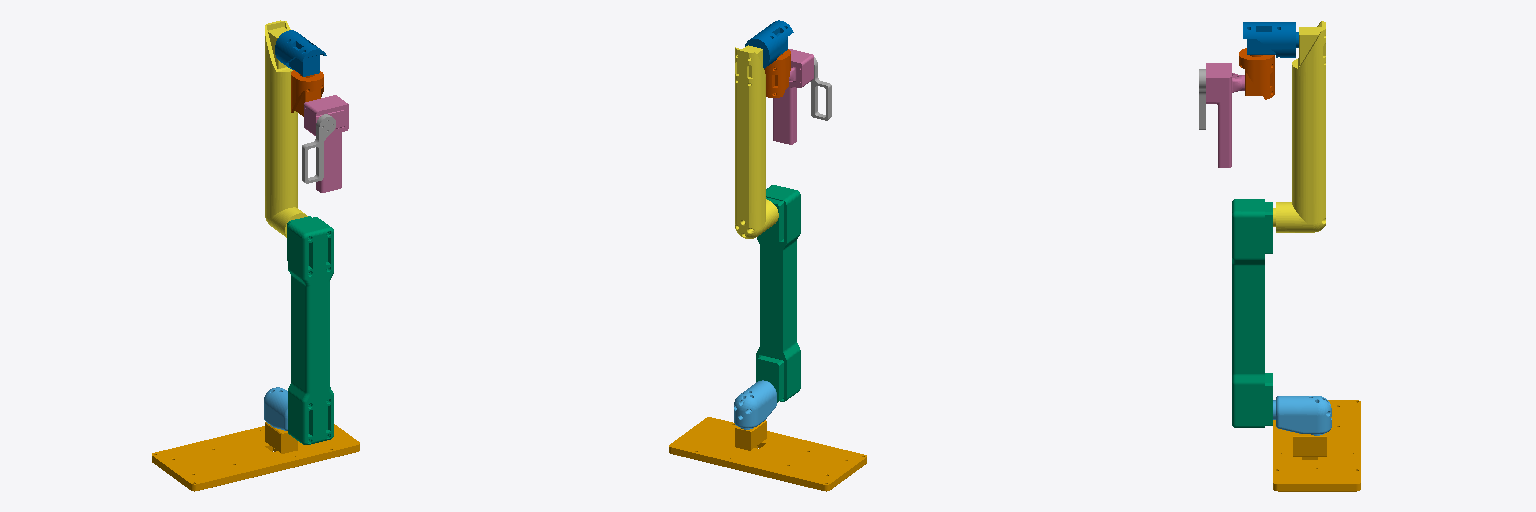
The robot description file, URDF, robot "GELLO_Assembly_URDF_V3":
<?xml version='1.0' encoding='utf-8'?>
<robot name="GELLO_Assembly_URDF_V3">
    <link name="base_link">
        <inertial>
            <origin xyz="1.2185206118581e-10 -0.01143238871495543 0.020561871815101752" rpy="0.0 0.0 0.0" />
            <mass value="1.5428560048927807e-06" />
            <inertia ixx="2.142752736107589e-10" iyy="1.180719234889573e-10" izz="1.9735669694538282e-10" ixy="-2.713718133592243e-25" iyz="6.565466731887767e-18" ixz="1.394243159687223e-19" />
        </inertial>
        <visual name="base_link_visual">
            <origin xyz="0.0 0.0 0.0" rpy="0.0 0.0 0.0" />
            <geometry>
                <mesh filename="meshes/base_link.stl" scale="0.001 0.001 0.001" />
            </geometry>
        </visual>
        <collision name="base_link_collision">
            <origin xyz="0.0 0.0 0.0" rpy="0.0 0.0 0.0" />
            <geometry>
                <mesh filename="meshes/base_link.stl" scale="0.001 0.001 0.001" />
            </geometry>
        </collision>
    </link>
    <link name="link_1">
        <inertial>
            <origin xyz="-3.486140317856206e-09 -0.014537708569331006 0.019919485015283848" rpy="0.0 -0.0 0.0" />
            <mass value="0.06274997662262678" />
            <inertia ixx="1.939615471727285e-05" iyy="9.515286083480127e-06" izz="1.7855195279809587e-05" ixy="1.987735196400077e-12" iyz="1.28932090236926e-06" ixz="1.2821877328375199e-12" />
        </inertial>
        <visual name="link_1_visual">
            <origin xyz="3.293144909717328e-11 2.2337207000733273e-09 -0.04849999790885827" rpy="0.0 -0.0 0.0" />
            <geometry>
                <mesh filename="meshes/link_1.stl" scale="0.001 0.001 0.001" />
            </geometry>
        </visual>
        <collision name="link_1_collision">
            <origin xyz="3.293144909717328e-11 2.2337207000733273e-09 -0.04849999790885827" rpy="0.0 -0.0 0.0" />
            <geometry>
                <mesh filename="meshes/link_1.stl" scale="0.001 0.001 0.001" />
            </geometry>
        </collision>
    </link>
    <link name="link_2">
        <inertial>
            <origin xyz="-1.7018640656112306e-05 0.10655568742222554 0.025152996946955792" rpy="0.0 -0.0 0.0" />
            <mass value="0.2736991790426287" />
            <inertia ixx="0.0009703808874144803" iyy="5.339350679634306e-05" izz="0.0009715106266584986" ixy="2.1979631599214904e-09" iyz="1.5438339270174017e-09" ixz="9.466039000876278e-11" />
        </inertial>
        <visual name="link_2_visual">
            <origin xyz="3.2931459346208954e-11 -0.12241937970128806 -0.11441938433215892" rpy="-1.5707963267948966 -0.0 0.0" />
            <geometry>
                <mesh filename="meshes/link_2.stl" scale="0.001 0.001 0.001" />
            </geometry>
        </visual>
        <collision name="link_2_collision">
            <origin xyz="3.2931459346208954e-11 -0.12241937970128806 -0.11441938433215892" rpy="-1.5707963267948966 -0.0 0.0" />
            <geometry>
                <mesh filename="meshes/link_2.stl" scale="0.001 0.001 0.001" />
            </geometry>
        </collision>
    </link>
    <link name="link_3">
        <inertial>
            <origin xyz="-6.558097818704784e-10 -0.07873313300611941 0.03514906114091329" rpy="0.0 -0.0 0.0" />
            <mass value="0.27478433171099215" />
            <inertia ixx="0.0009354187178187215" iyy="4.95203013102136e-05" izz="0.0009224332726669865" ixy="3.2363681225165675e-12" iyz="4.658729936879175e-05" ixz="4.6997325905895035e-12" />
        </inertial>
        <visual name="link_3_visual">
            <origin xyz="1.984530114147037e-09 0.22846475429259422 0.001464756380230563" rpy="1.5707963267948966 -2.7752198102815865e-41 0.0" />
            <geometry>
                <mesh filename="meshes/link_3.stl" scale="0.001 0.001 0.001" />
            </geometry>
        </visual>
        <collision name="link_3_collision">
            <origin xyz="1.984530114147037e-09 0.22846475429259422 0.001464756380230563" rpy="1.5707963267948966 -2.7752198102815865e-41 0.0" />
            <geometry>
                <mesh filename="meshes/link_3.stl" scale="0.001 0.001 0.001" />
            </geometry>
        </collision>
    </link>
    <link name="link_4">
        <inertial>
            <origin xyz="-3.244332181633491e-05 0.0029807622731151187 0.018819182439232886" rpy="0.0 -0.0 0.0" />
            <mass value="0.031008776139392943" />
            <inertia ixx="8.755738007611667e-06" iyy="8.049280542401816e-06" izz="5.206051461475491e-06" ixy="-3.49855801616812e-09" iyz="-1.9006323134411816e-06" ixz="6.683451520178062e-09" />
        </inertial>
        <visual name="link_4_visual">
            <origin xyz="1.3820832883877642e-09 -0.42500241950703965 0.0014910393398112022" rpy="-1.5707963267948966 -3.552020629549386e-39 -1.1208200836760149e-68" />
            <geometry>
                <mesh filename="meshes/link_4.stl" scale="0.001 0.001 0.001" />
            </geometry>
        </visual>
        <collision name="link_4_collision">
            <origin xyz="1.3820832883877642e-09 -0.42500241950703965 0.0014910393398112022" rpy="-1.5707963267948966 -3.552020629549386e-39 -1.1208200836760149e-68" />
            <geometry>
                <mesh filename="meshes/link_4.stl" scale="0.001 0.001 0.001" />
            </geometry>
        </collision>
    </link>
    <link name="link_5">
        <inertial>
            <origin xyz="-1.5913265686414142e-06 -0.003999778932534621 0.017363032949817735" rpy="0.0 -0.0 0.0" />
            <mass value="0.022624541403637354" />
            <inertia ixx="5.5368254714381615e-06" iyy="5.413203865128023e-06" izz="3.884188348251538e-06" ixy="-3.15368032794705e-10" iyz="1.248456772386759e-06" ixz="7.289609421640314e-10" />
        </inertial>
        <visual name="link_5_visual">
            <origin xyz="1.3820832954827833e-09 -0.07001137983688038 0.39649345432306715" rpy="-3.141592653589793 3.927592750495174e-27 3.552020629549386e-39" />
            <geometry>
                <mesh filename="meshes/link_5.stl" scale="0.001 0.001 0.001" />
            </geometry>
        </visual>
        <collision name="link_5_collision">
            <origin xyz="1.3820832954827833e-09 -0.07001137983688038 0.39649345432306715" rpy="-3.141592653589793 3.927592750495174e-27 3.552020629549386e-39" />
            <geometry>
                <mesh filename="meshes/link_5.stl" scale="0.001 0.001 0.001" />
            </geometry>
        </collision>
    </link>
    <link name="link_6_handle">
        <inertial>
            <origin xyz="0.004767264311650751 -0.030578485598181687 0.021042061905634214" rpy="0.0 -6.933097916463586e-126 0.0" />
            <mass value="0.060411157947317135" />
            <inertia ixx="5.620410861848987e-05" iyy="7.784684109052764e-06" izz="5.85731258909393e-05" ixy="3.1845092277640977e-06" iyz="-1.924039543877657e-06" ixz="-9.379635793612819e-08" />
        </inertial>
        <visual name="link_6_handle_visual">
            <origin xyz="1.0691620743255582e-09 -0.37999103529538875 -0.19850896046651642" rpy="-1.5707963267948966 -2.4031165641899233e-39 3.927592750495174e-27" />
            <geometry>
                <mesh filename="meshes/link_6_handle.stl" scale="0.001 0.001 0.001" />
            </geometry>
        </visual>
        <collision name="link_6_handle_collision">
            <origin xyz="1.0691620743255582e-09 -0.37999103529538875 -0.19850896046651642" rpy="-1.5707963267948966 -2.4031165641899233e-39 3.927592750495174e-27" />
            <geometry>
                <mesh filename="meshes/link_6_handle.stl" scale="0.001 0.001 0.001" />
            </geometry>
        </collision>
    </link>
    <link name="link_7_trigger">
        <inertial>
            <origin xyz="-0.009290516311368603 -0.023930064198115775 0.0037712293318426585" rpy="0.0 -2.4129176200631386e-86 0.0" />
            <mass value="0.007815814536295325" />
            <inertia ixx="3.4413544221765808e-06" iyy="7.44186391013848e-07" izz="4.125555280882261e-06" ixy="-9.238148566818971e-07" iyz="-4.1376289998558673e-08" ixz="-1.606377157278117e-08" />
        </inertial>
        <visual name="link_7_trigger_visual">
            <origin xyz="5.693219692662899e-06 -0.369996727475725 -0.2885089604665158" rpy="-1.5707963267948966 -1.0141388890537779e-39 3.9275927504951744e-27" />
            <geometry>
                <mesh filename="meshes/link_7_trigger.stl" scale="0.001 0.001 0.001" />
            </geometry>
        </visual>
        <collision name="link_7_trigger_collision">
            <origin xyz="5.693219692662899e-06 -0.369996727475725 -0.2885089604665158" rpy="-1.5707963267948966 -1.0141388890537779e-39 3.9275927504951744e-27" />
            <geometry>
                <mesh filename="meshes/link_7_trigger.stl" scale="0.001 0.001 0.001" />
            </geometry>
        </collision>
    </link>
    <joint name="base_link_Joint_1" type="continuous">
        <origin xyz="0.0 -0.00393239 0.03201811" rpy="0.0 -0.0 0.0" />
        <parent link="base_link" />
        <child link="link_1" />
        <axis xyz="0.0 0.0 1.0" />
    </joint>
    <joint name="link_1_Joint_2" type="continuous">
        <origin xyz="0.0 -0.04449999999999999 0.0245" rpy="1.5707963267948966 -0.0 0.0" />
        <parent link="link_1" />
        <child link="link_2" />
        <axis xyz="0.0 0.0 1.0" />
    </joint>
    <joint name="link_2_Joint_3" type="continuous">
        <origin xyz="5.235e-05 0.21318509 -0.00029999999999999363" rpy="3.141592653589793 -0.0 0.0" />
        <parent link="link_2" />
        <child link="link_3" />
        <axis xyz="0.0 0.0 1.0" />
    </joint>
    <joint name="link_3_Joint_4" type="continuous">
        <origin xyz="0.0 -0.19610000999999996 0.025975010000000003" rpy="3.141592653589793 -0.0 -1.8909140209225187e-124" />
        <parent link="link_3" />
        <child link="link_4" />
        <axis xyz="0.0 -3.1554436208840472e-30 0.9999999999999999" />
    </joint>
    <joint name="link_4_Joint_5" type="continuous">
        <origin xyz="0.0 -0.01239999999999995 0.0425" rpy="1.5707963267948966 5.966672584960167e-154 -1.8909140209225187e-124" />
        <parent link="link_4" />
        <child link="link_5" />
        <axis xyz="0.0 -0.0 1.0" />
    </joint>
    <joint name="link_5_Joint_6" type="continuous">
        <origin xyz="0.0 0.012000000000000002 0.035500000000000045" rpy="-1.5707963267948966 7.174648137343064e-43 6.525304467998525e-55" />
        <parent link="link_5" />
        <child link="link_6_handle" />
        <axis xyz="6.525304467998525e-55 -9.663328129470342e-84 1.0" />
    </joint>
    <joint name="link_6_handle_Gripper" type="continuous">
        <origin xyz="-0.0095 0.0 0.03899999999999999" rpy="5.048709793414479e-29 5.533840668800091e-55 -1.4349296274686127e-42" />
        <parent link="link_6_handle" />
        <child link="link_7_trigger" />
        <axis xyz="9.91463799198433e-56 5.048709793414479e-29 1.0" />
    </joint>
</robot>

--- What the picture shows (computed from the rendered views, not written in the file) ---
The picture shows the robot from 3 angles, left to right: view 1: azimuth 30°, elevation 25°; view 2: azimuth 150°, elevation 25°; view 3: azimuth 270°, elevation 25°; orthographic projection.
Robot: GELLO_Assembly_URDF_V3 — 8 links, 7 joints (7 continuous); root link base_link; default pose: all joints at 0.
Visible links, largest first — view 1: link_2, base_link, link_3, link_6_handle, link_4, link_7_trigger, link_5, link_1; view 2: base_link, link_2, link_3, link_6_handle, link_1, link_4, link_5, link_7_trigger; view 3: link_2, link_3, base_link, link_6_handle, link_1, link_4, link_5.
Link boxes in pixels (x1=…): link_2: x1=287, y1=216, x2=333, y2=444; base_link: x1=152, y1=422, x2=359, y2=491; link_3: x1=265, y1=20, x2=307, y2=237; link_6_handle: x1=304, y1=95, x2=348, y2=192; link_4: x1=275, y1=30, x2=326, y2=76; link_7_trigger: x1=302, y1=114, x2=335, y2=183; link_5: x1=291, y1=70, x2=323, y2=116; link_1: x1=264, y1=387, x2=287, y2=430; base_link: x1=669, y1=417, x2=866, y2=491; link_2: x1=756, y1=185, x2=800, y2=402; link_3: x1=735, y1=45, x2=778, y2=238; link_6_handle: x1=773, y1=49, x2=813, y2=144; link_1: x1=734, y1=380, x2=776, y2=429; link_4: x1=745, y1=20, x2=793, y2=68; link_5: x1=764, y1=49, x2=790, y2=97; link_7_trigger: x1=810, y1=57, x2=831, y2=120; link_2: x1=1232, y1=199, x2=1272, y2=427; link_3: x1=1273, y1=21, x2=1325, y2=232; base_link: x1=1273, y1=400, x2=1360, y2=491; link_6_handle: x1=1206, y1=63, x2=1244, y2=167; link_1: x1=1273, y1=396, x2=1331, y2=435; link_4: x1=1243, y1=22, x2=1298, y2=57; link_5: x1=1239, y1=48, x2=1274, y2=99.
Bounding box of the posed robot: 0.1997 × 0.1628 × 0.4828 m (x, y, z).
8 mesh visuals loaded from 8 distinct referenced files (8 binary STL).
